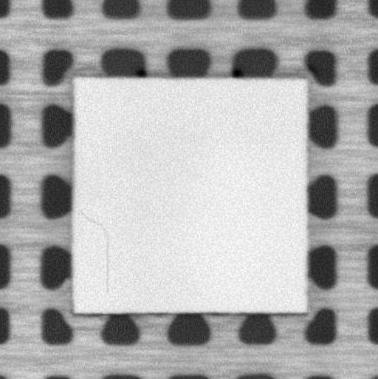DIE_CRACK: (79, 210, 112, 293)
